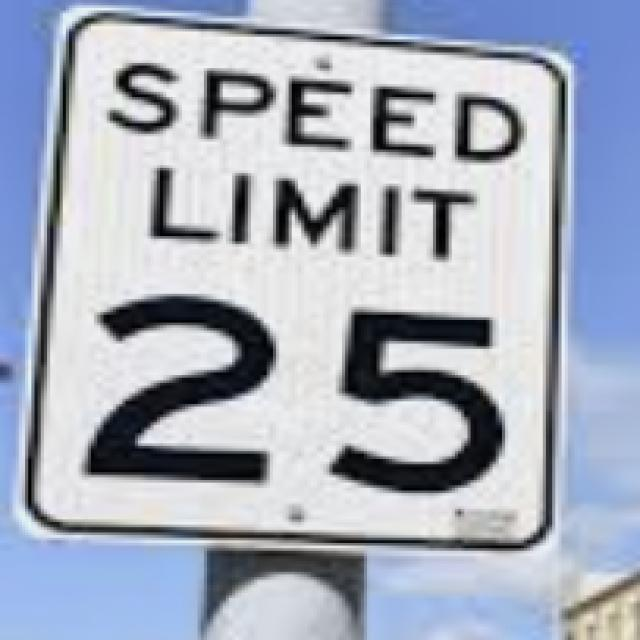speedLimit25: (60, 8, 564, 571)
